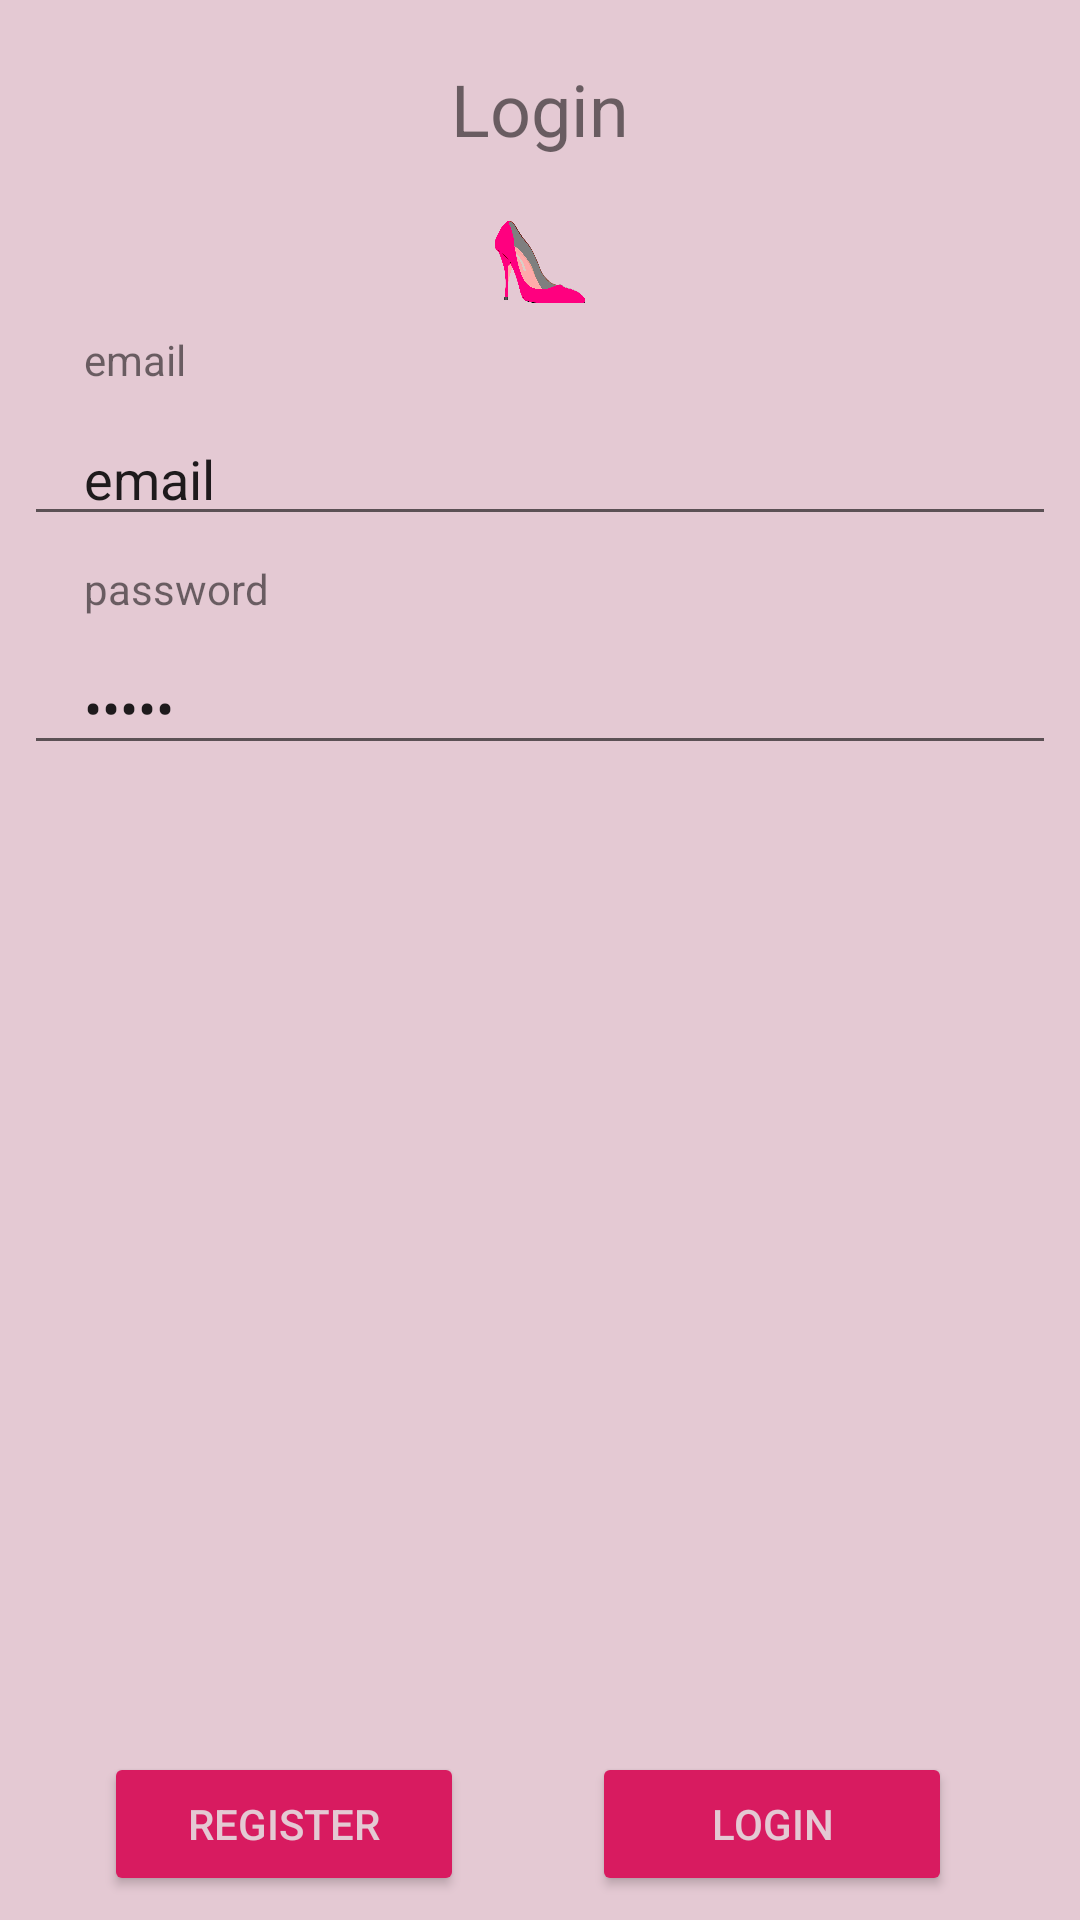

Locate icon controls on the screen. Image size 1080px×1920px, boxes as (x1, y1, x2, y2).
shoe: (495, 221, 585, 303)
